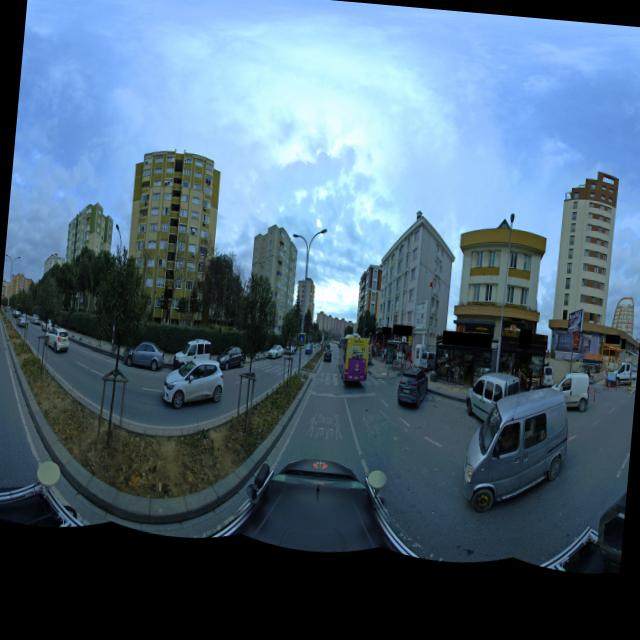SignStore: (443, 330, 491, 346), (519, 329, 531, 349), (392, 326, 412, 334), (605, 334, 620, 344), (620, 338, 626, 349), (382, 327, 391, 334)
